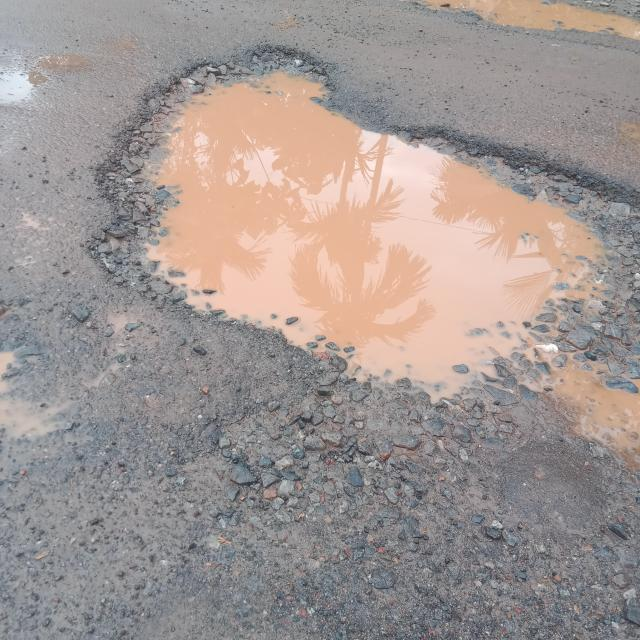pothole: (86, 44, 640, 424), (1, 306, 81, 458), (415, 0, 640, 39)
